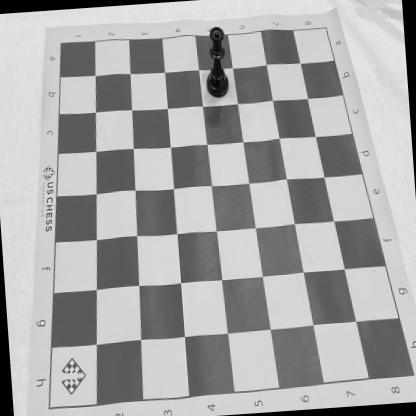queen: (202, 25, 230, 100)
